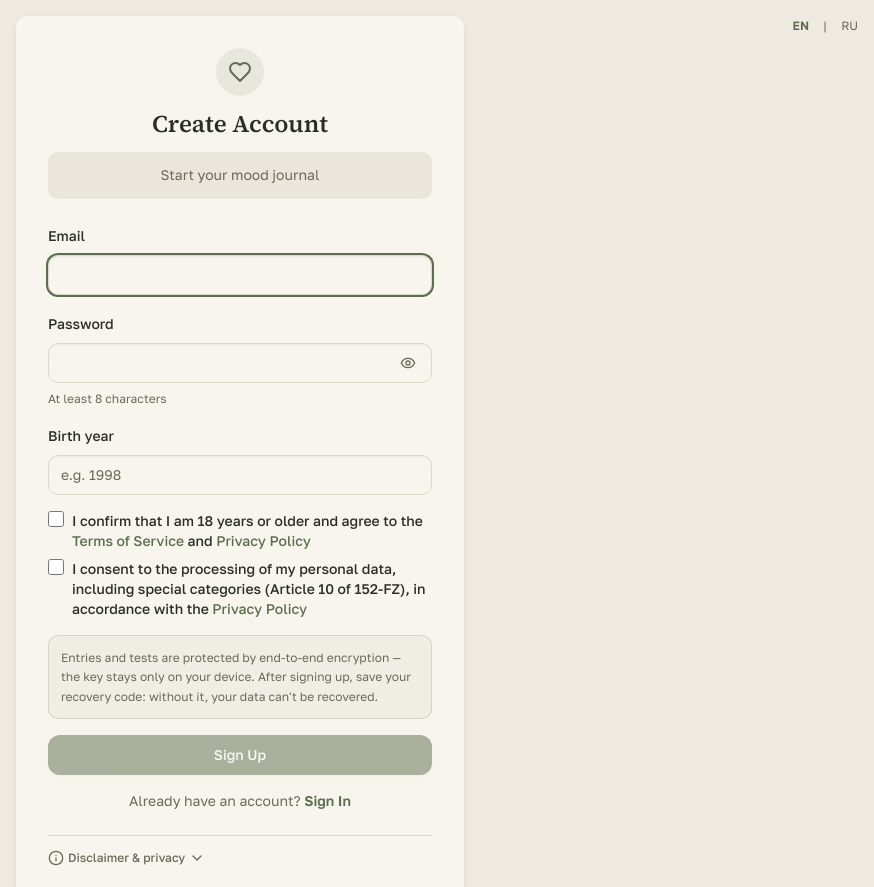
RegisterPage › shows error message on failure
Type "taken@example.com" into the field labelled "Email" at coordinates (240, 275), box 48,255 -> 432,295
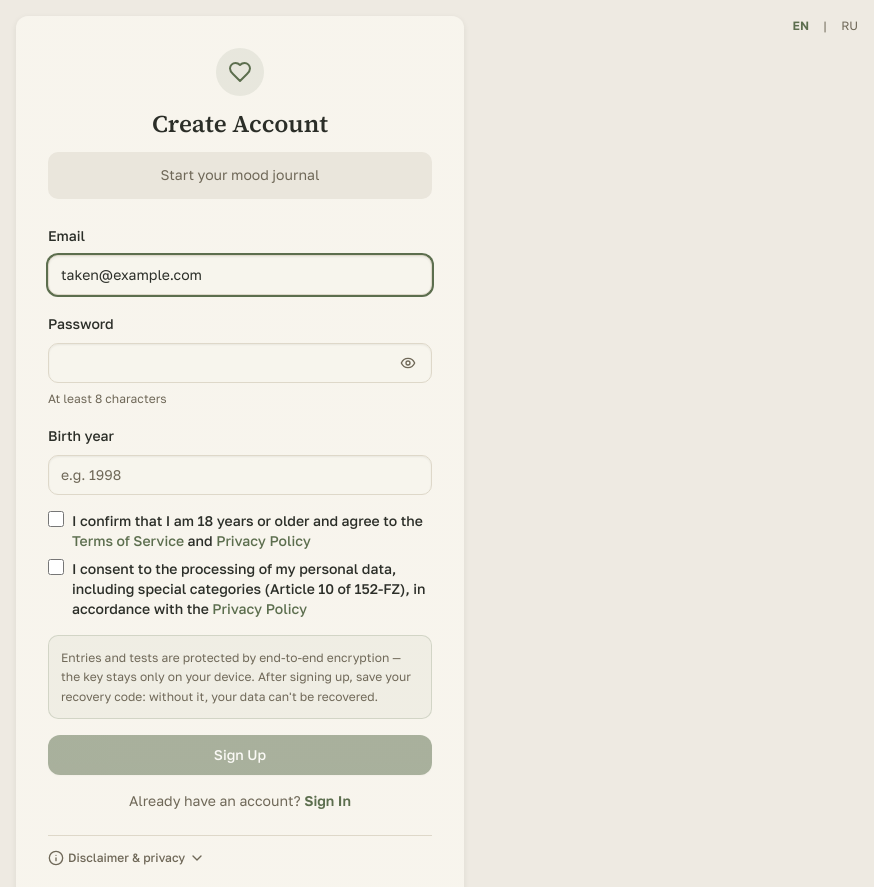
Type "secret123" into the password field labelled "Password" at coordinates (240, 363), box 48,343 -> 432,383
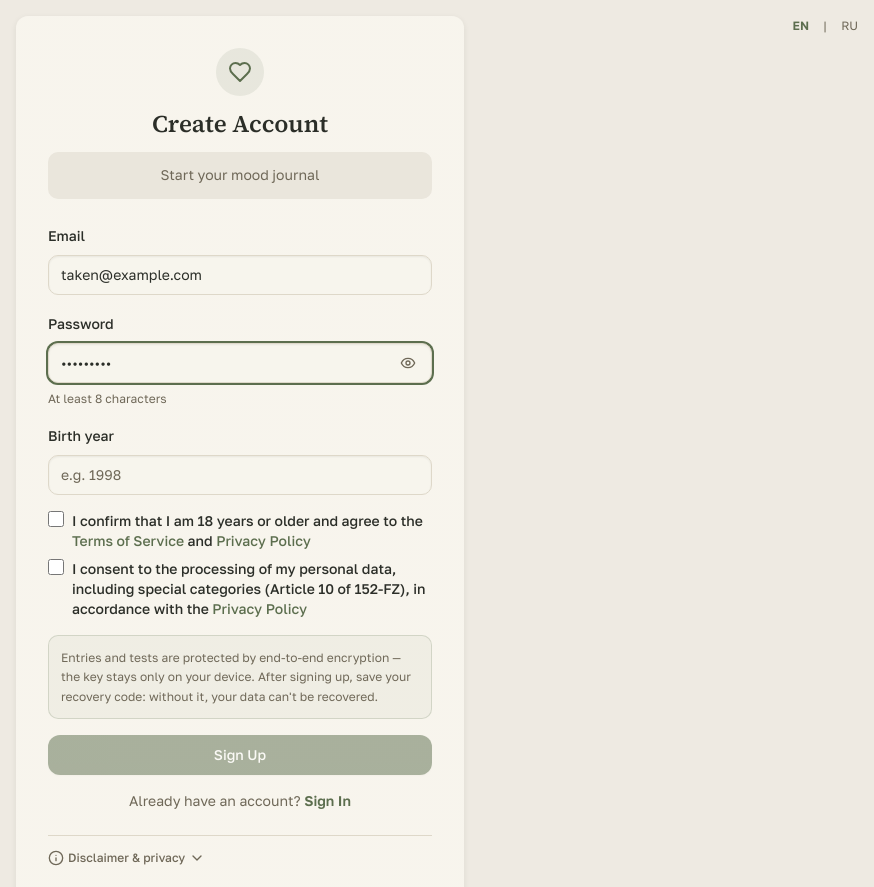
Type "1998" into the field labelled "Birth year" at coordinates (240, 475), box 48,455 -> 432,495
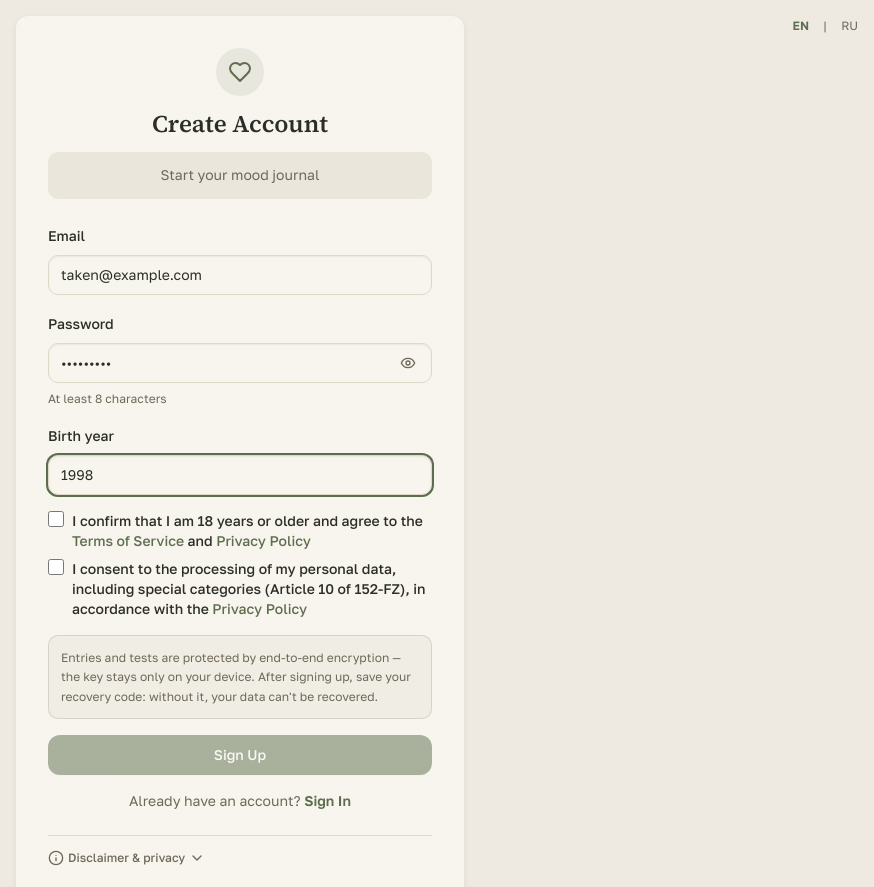
Click the 1st checkbox at coordinates (56, 519), box 48,511 -> 64,527
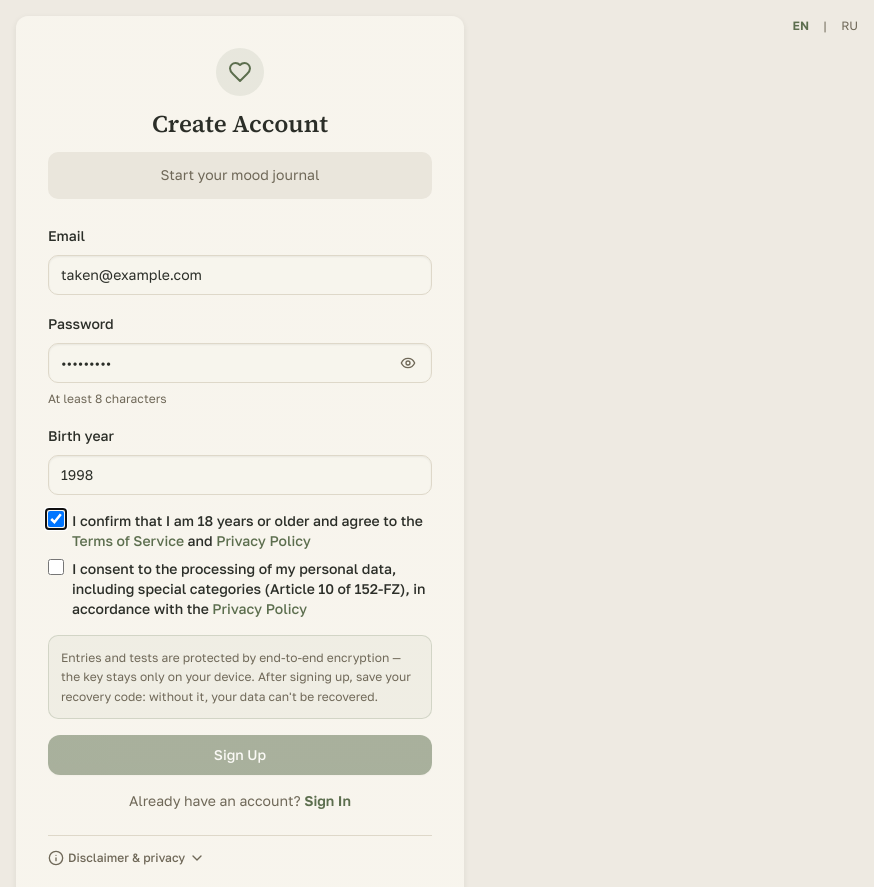
Click the 2nd checkbox at coordinates (56, 567), box 48,559 -> 64,575
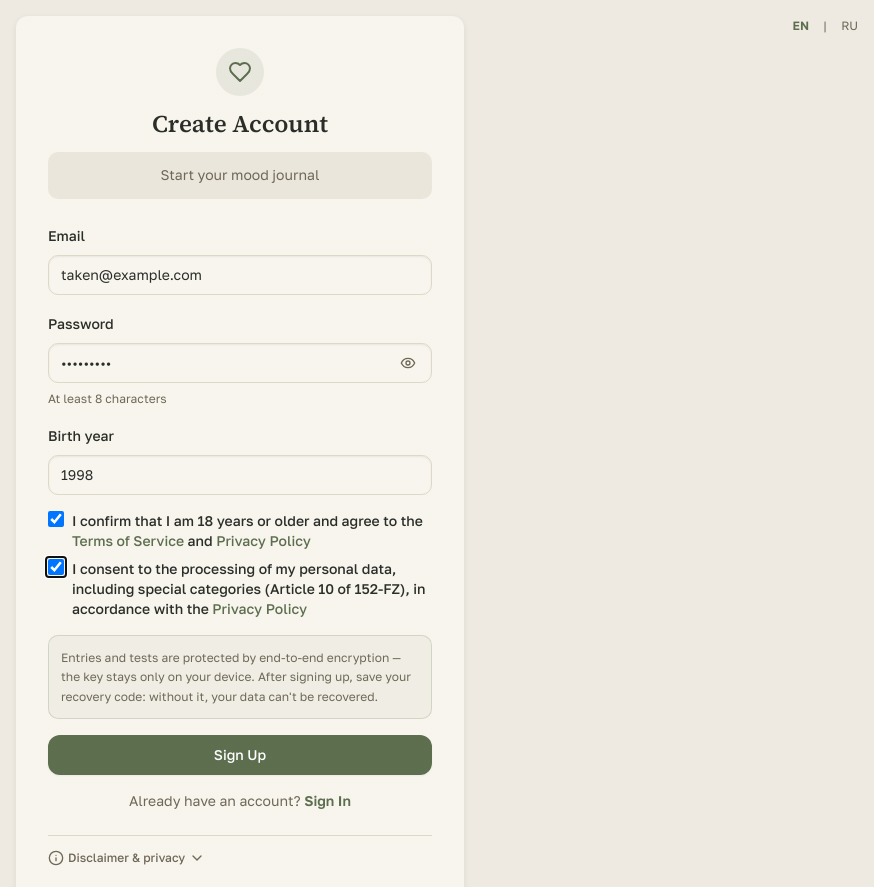
Click the button "Sign Up" at coordinates (240, 755), box 48,735 -> 432,775
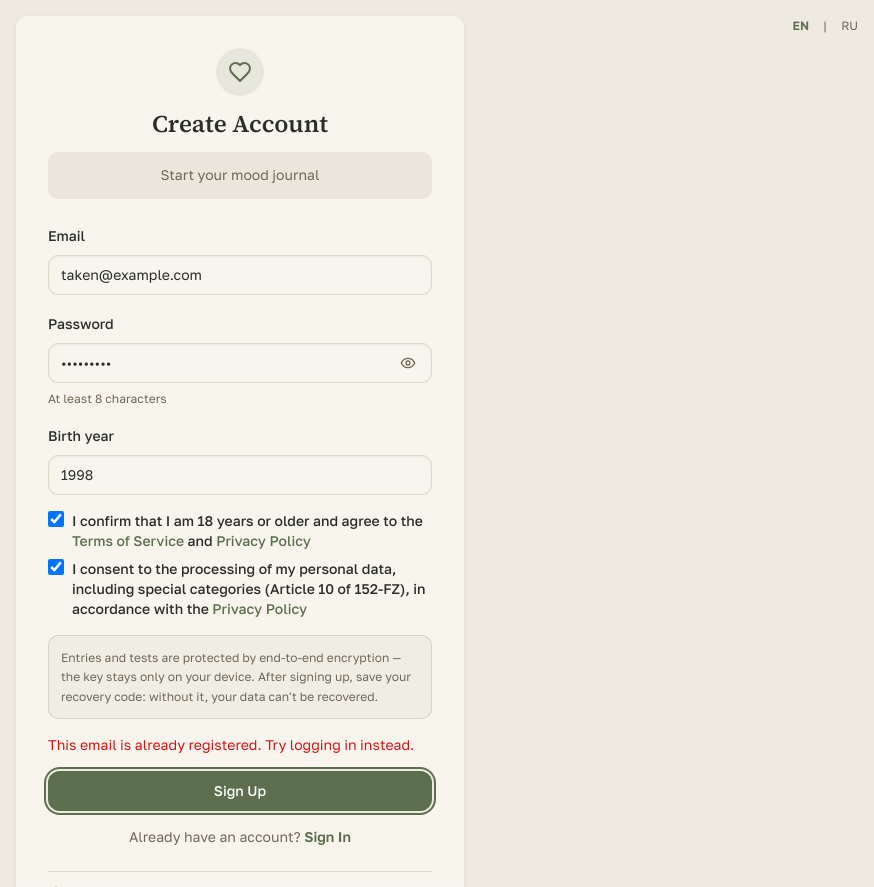
Expected: the text "This email is already registered. Try logging in instead." is shown, 48,735 -> 432,755
